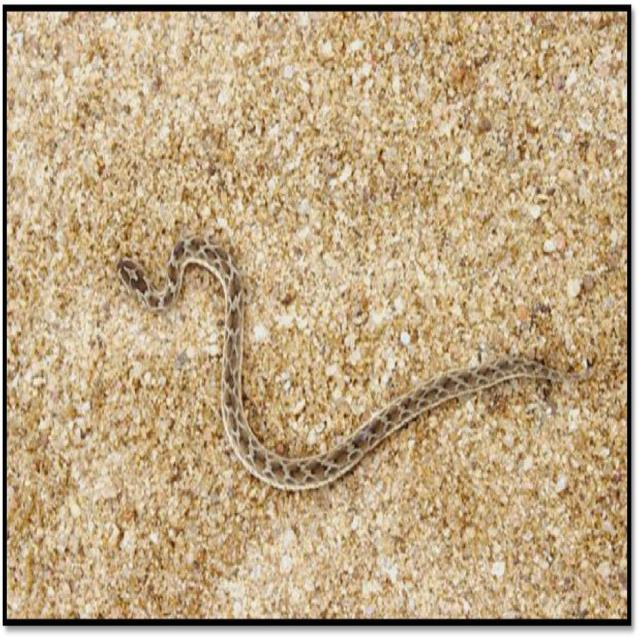Snake: (115, 230, 590, 492)
